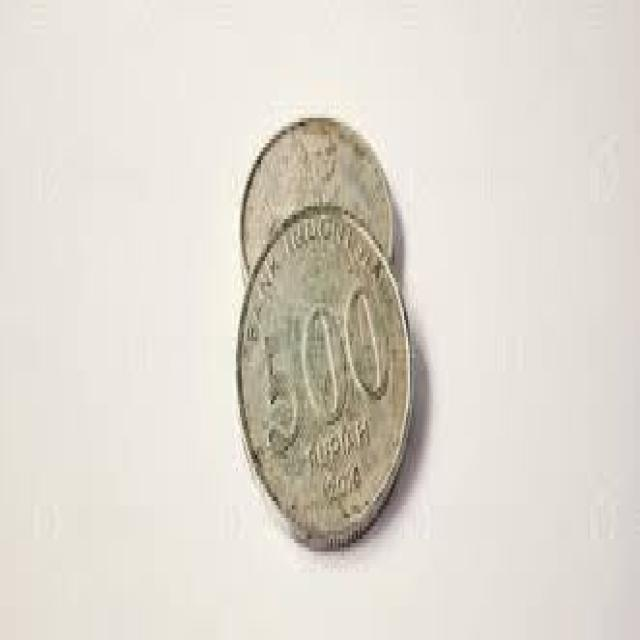500-kuning: (238, 207, 410, 546)
